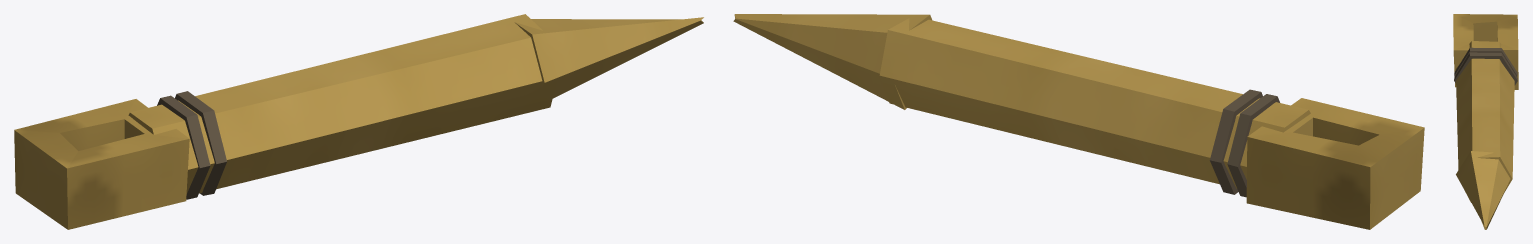
The model's file is needle_brass.glb.
3 renders of one model, left to right at view 1: azimuth 30°, elevation 25°; view 2: azimuth 150°, elevation 25°; view 3: azimuth 270°, elevation 25°, orthographic. The views are drawn at different scales.
Visible parts, largest first — view 1: NeedleBrass; view 2: NeedleBrass; view 3: NeedleBrass.
Boxes of the visible parts, x1=… form: NeedleBrass: x1=14, y1=14, x2=703, y2=229; NeedleBrass: x1=733, y1=14, x2=1424, y2=229; NeedleBrass: x1=1453, y1=14, x2=1518, y2=229.
Bounding box in the file's own units: 0.3368 × 0.0405 × 0.0477.
Materials: 2 (1 with a texture image).
